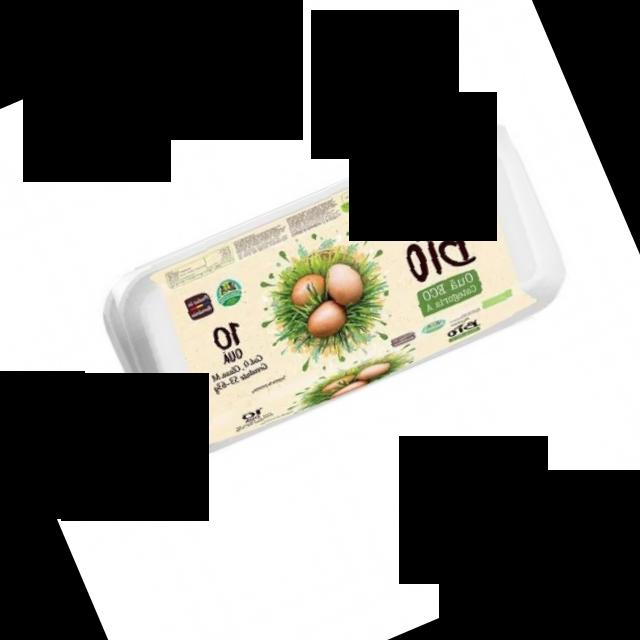eggs: (92, 112, 577, 469)
